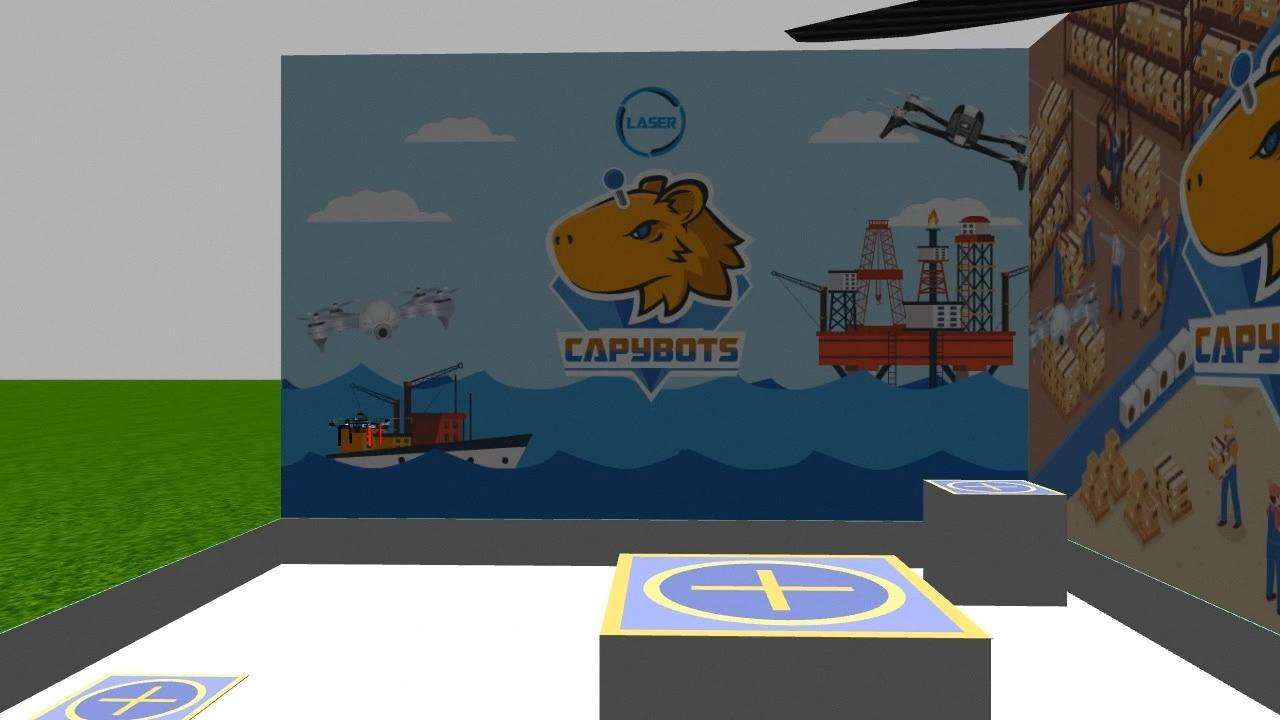UAV: (321, 392, 405, 449)
